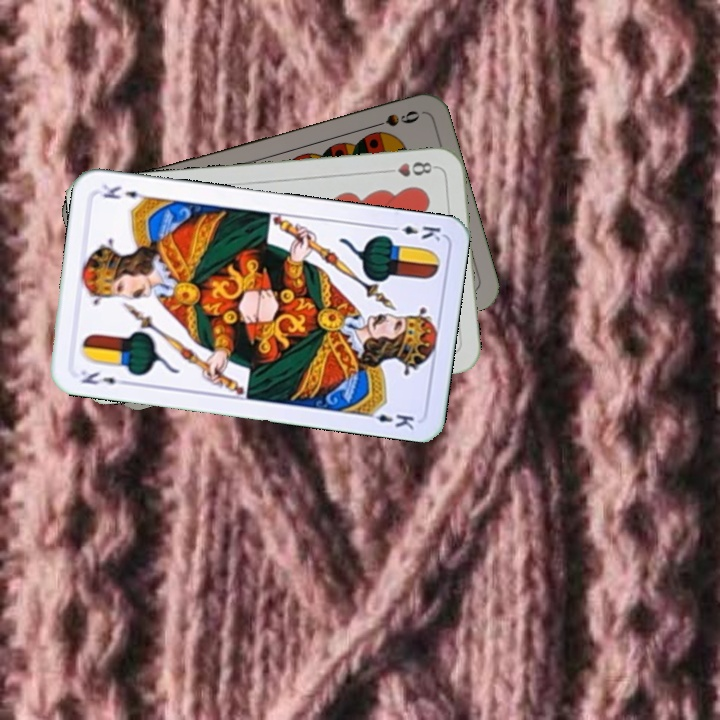EK: (385, 221, 443, 244), (76, 366, 131, 388)
H8: (380, 158, 439, 179)
S9: (364, 106, 422, 132)
